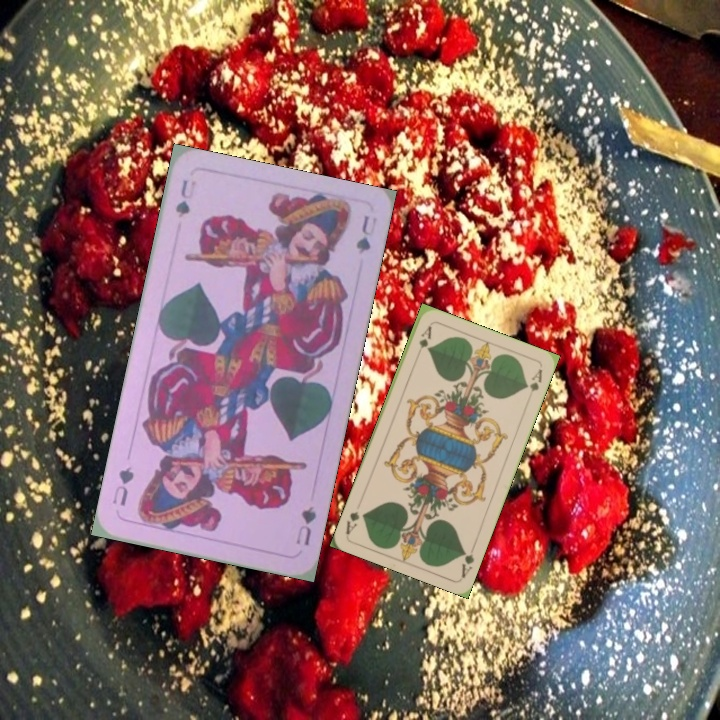GA: (412, 322, 434, 361), (457, 541, 478, 580)
GU: (171, 175, 199, 221), (292, 501, 319, 548)
